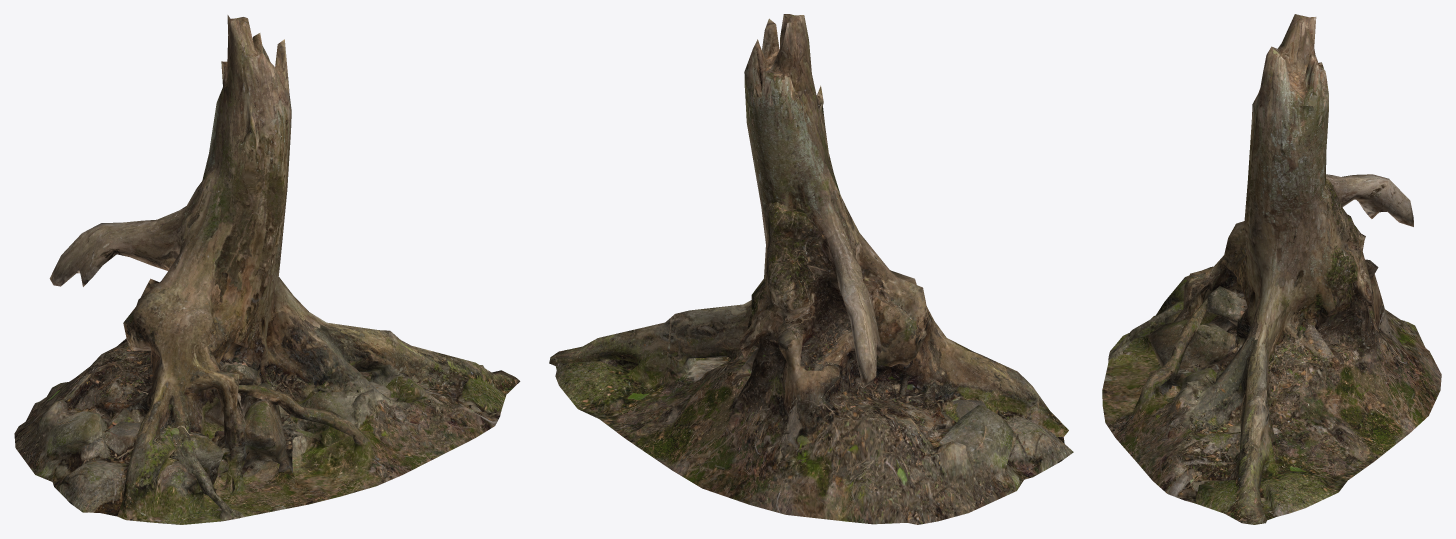
Rendered from P_BrokenTree01.fbx.
3 views of the same model, side by side, from view 1: azimuth 30°, elevation 25°; view 2: azimuth 150°, elevation 25°; view 3: azimuth 270°, elevation 25° (orthographic). The views are drawn at different scales.
Visible parts, largest first — view 1: P_BrokenTree01; view 2: P_BrokenTree01; view 3: P_BrokenTree01.
Part boxes in pixels (x1,y1,x2,y2): P_BrokenTree01: (14,15,520,524); P_BrokenTree01: (549,14,1073,524); P_BrokenTree01: (1102,14,1441,524).
Size of the model in its own units: 250 by 209 by 164.
